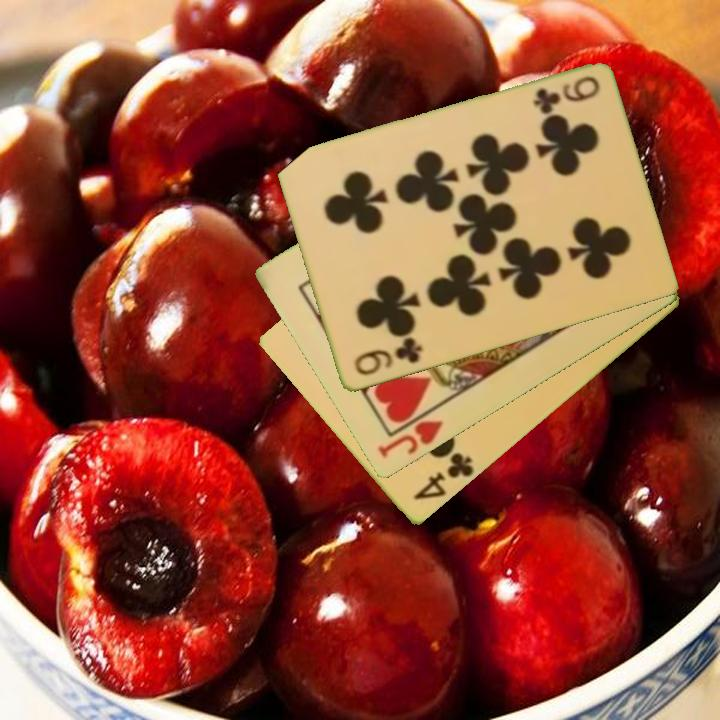4c: (409, 446, 477, 504)
9c: (350, 334, 425, 379), (529, 73, 603, 116)
Jh: (374, 417, 446, 462)
